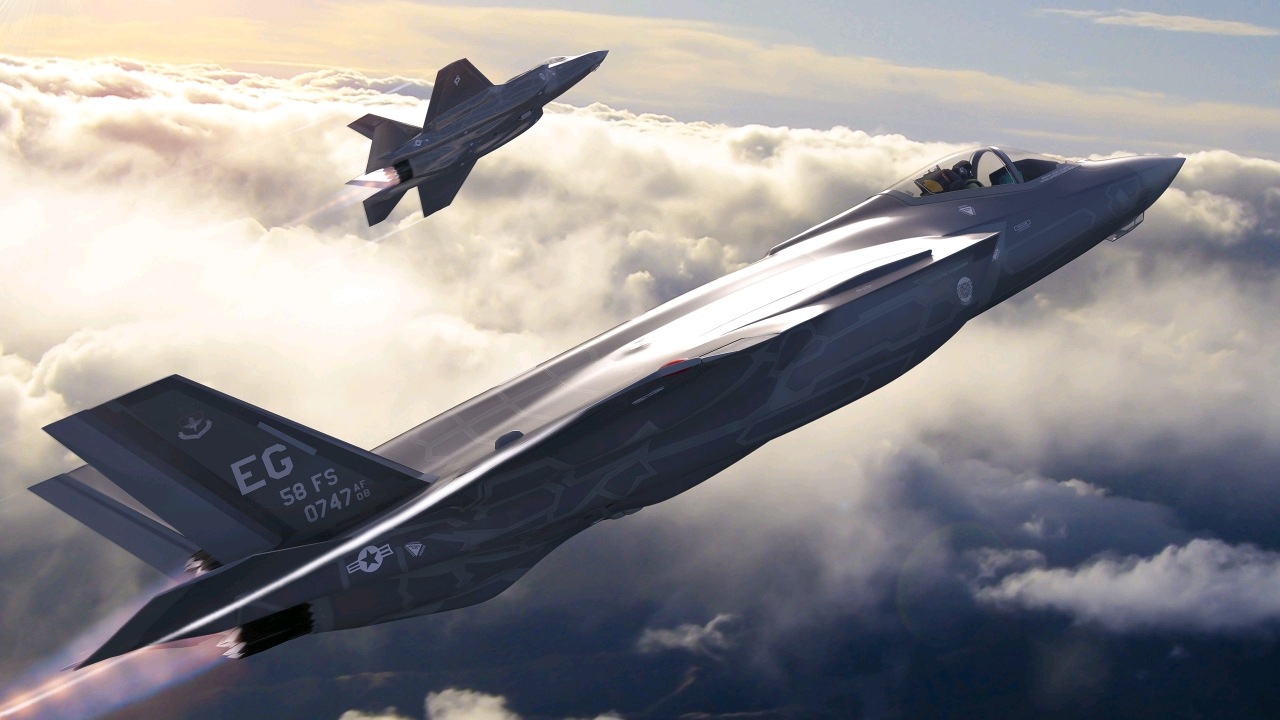airplane: (34, 138, 1187, 699), (320, 44, 611, 229)
